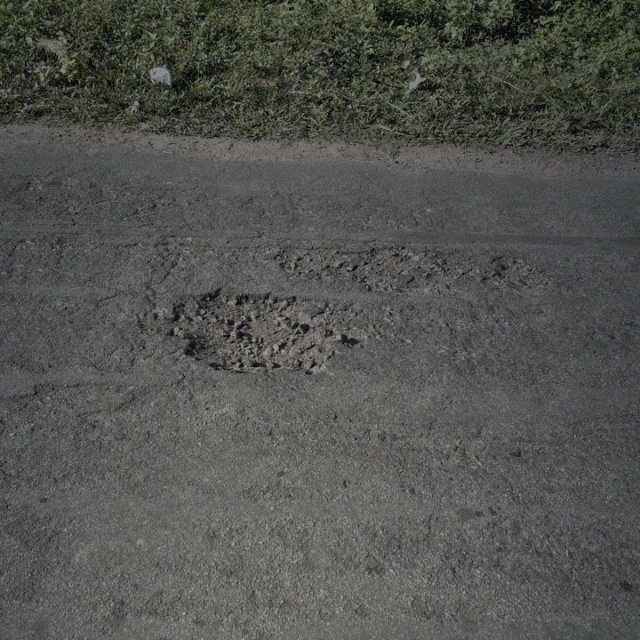pothole: (159, 286, 351, 377), (270, 242, 466, 293), (476, 253, 556, 295)
